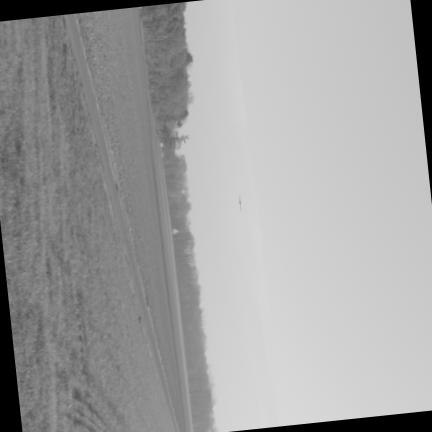Shahed: (238, 195, 241, 211)
